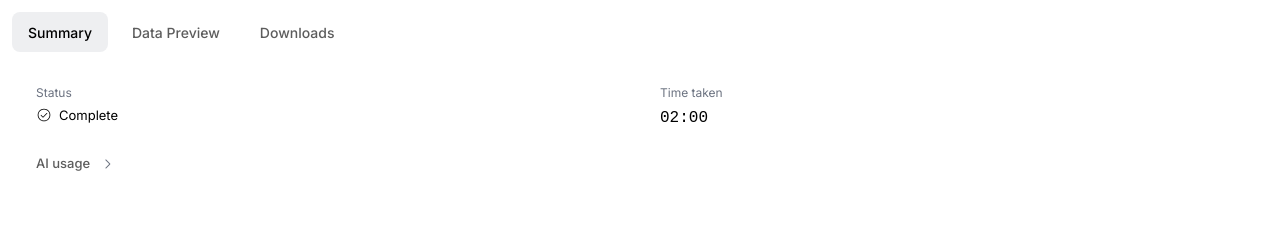
it: ResultsView — P4 › Data Preview tab renders table with field name + value columns
Click the button "Data Preview" at (176, 32), box [116,12,236,52]
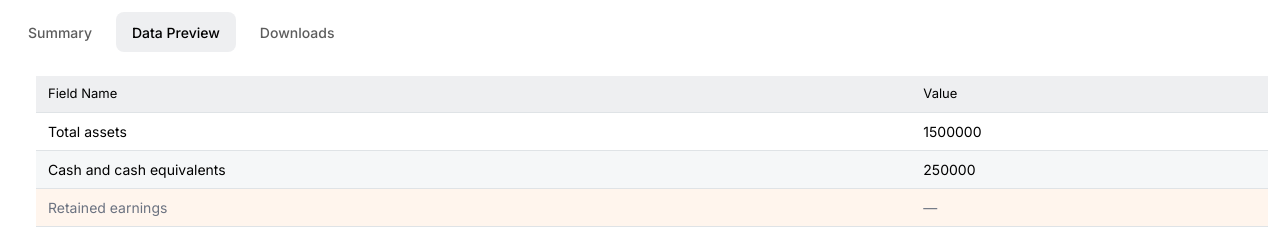
Check: the text "Total assets" is shown, box [36,112,911,150]
Check: the text "1500000" is shown, box [911,112,1268,150]
